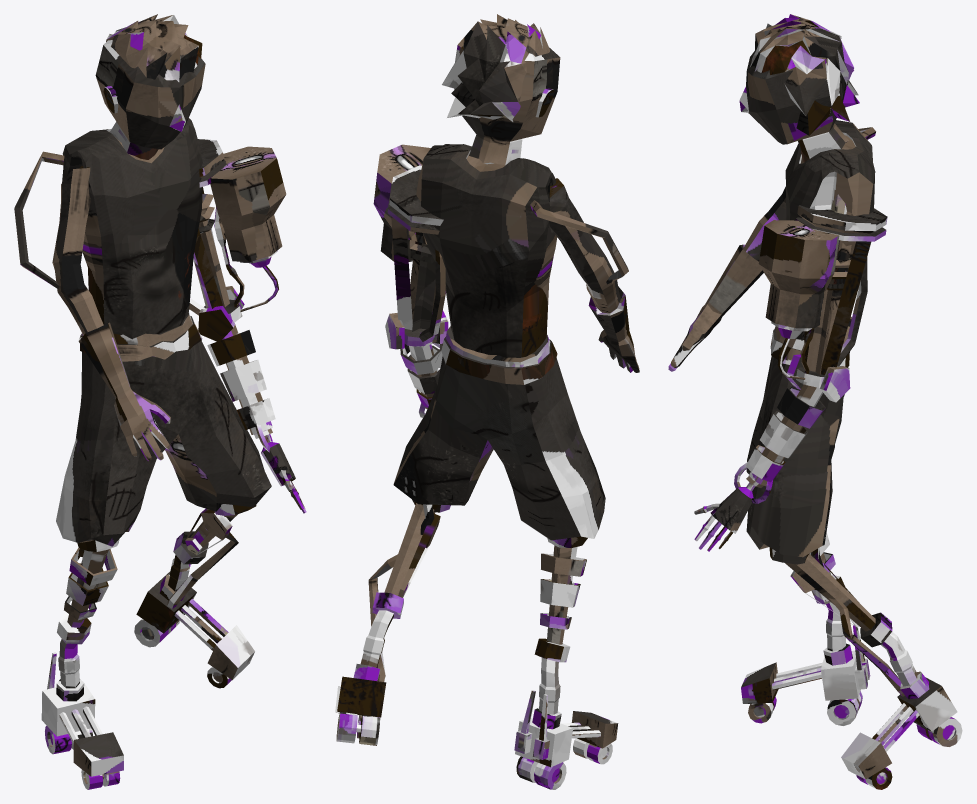
File: CyborgFINALAnimation_000172.obj
3 views of the same model, side by side, from view 1: azimuth 30°, elevation 25°; view 2: azimuth 150°, elevation 25°; view 3: azimuth 270°, elevation 25° (orthographic).
Visible parts, largest first — view 1: CyborgMesh_Cube.002; view 2: CyborgMesh_Cube.002; view 3: CyborgMesh_Cube.002.
Part boxes in pixels (x1,y1,x2,y2): CyborgMesh_Cube.002: [14, 14, 306, 789]; CyborgMesh_Cube.002: [335, 14, 639, 789]; CyborgMesh_Cube.002: [668, 14, 962, 789].
Size of the model in its own units: 3.58 by 9.67 by 3.53.
